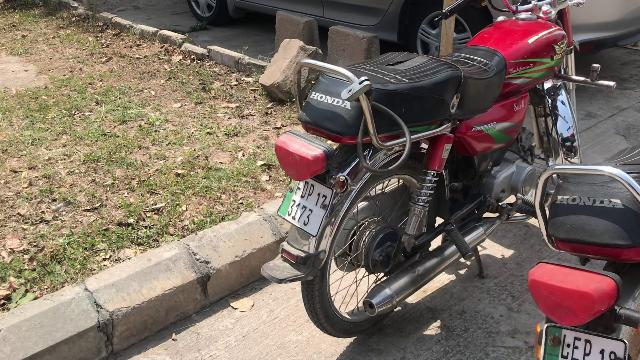plate: (272, 166, 336, 238)
